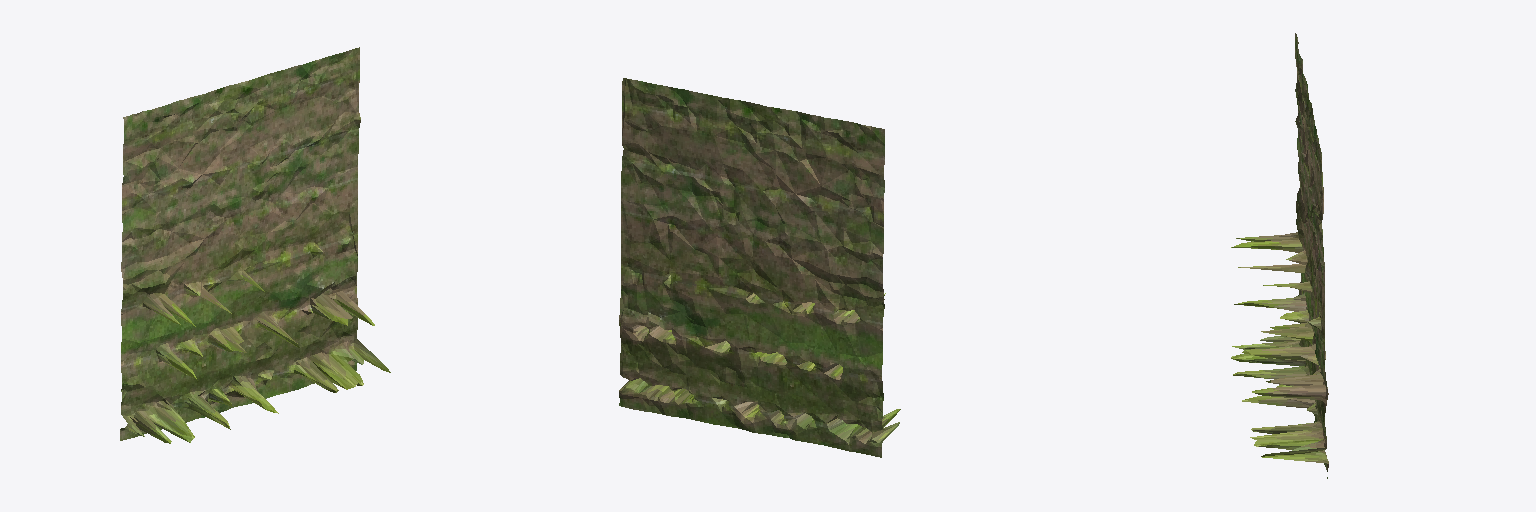
The picture shows the model from 3 angles: view 1: azimuth 30°, elevation 25°; view 2: azimuth 150°, elevation 25°; view 3: azimuth 270°, elevation 25°; orthographic projection.
Parts seen in each view (by area): view 1: grp1; view 2: grp1; view 3: grp1.
Boxes of the visible parts, x1,y1,x2,y2 form: grp1: [120, 47, 390, 443]; grp1: [619, 78, 900, 457]; grp1: [1231, 33, 1328, 478].
Bounding box in the file's own units: 8 × 10 × 2.74.
Materials: 1 (1 with a texture image).